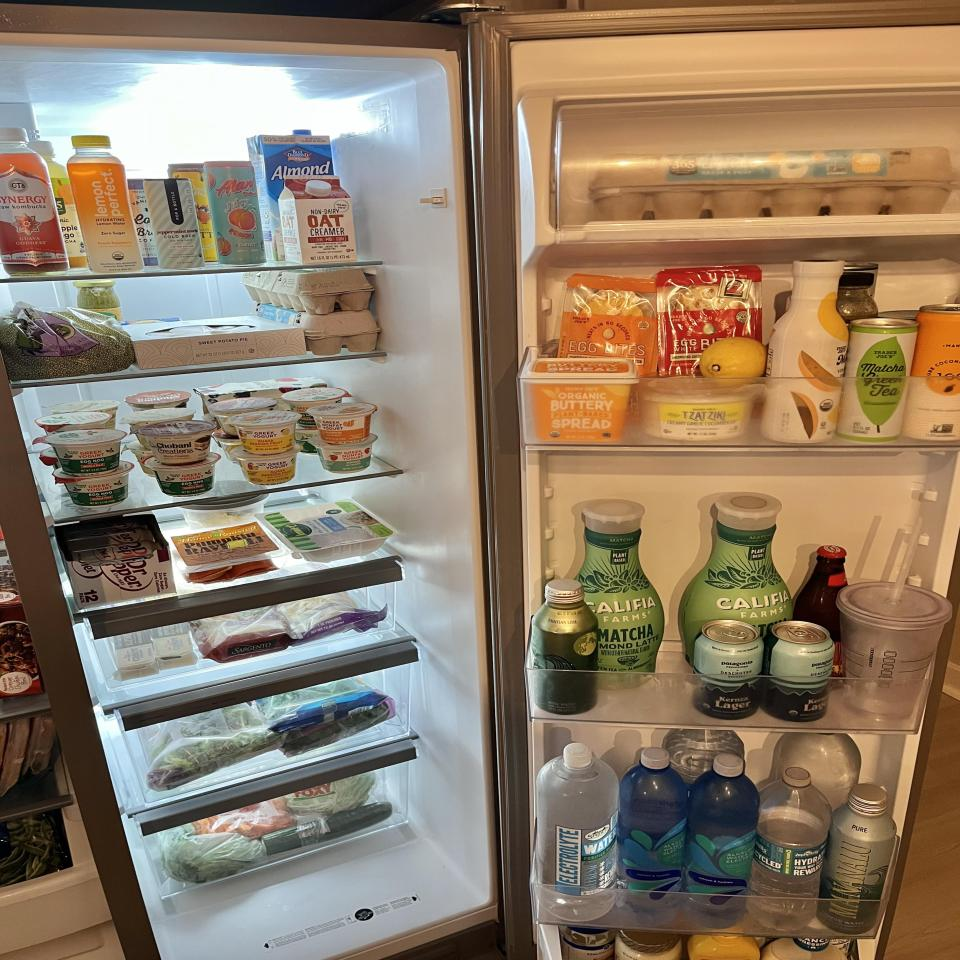Huevos: (591, 146, 956, 221), (252, 301, 379, 356), (240, 267, 374, 315)
Limón: (704, 337, 764, 384)
Mantequilla: (114, 629, 159, 679), (155, 622, 198, 670)
Pepino: (262, 802, 392, 856)
Yogur: (54, 462, 134, 509), (142, 452, 224, 497), (46, 429, 126, 475), (230, 410, 302, 454), (308, 433, 378, 476), (306, 403, 378, 443), (231, 446, 302, 486)
Zanahoria: (195, 797, 292, 840)
